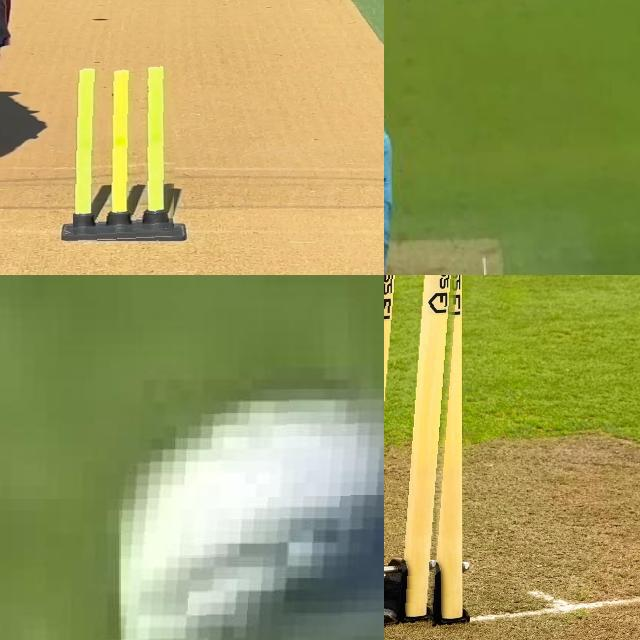Cricket ball: (120, 389, 384, 640)
Stumps: (384, 275, 469, 639), (73, 66, 178, 242)
